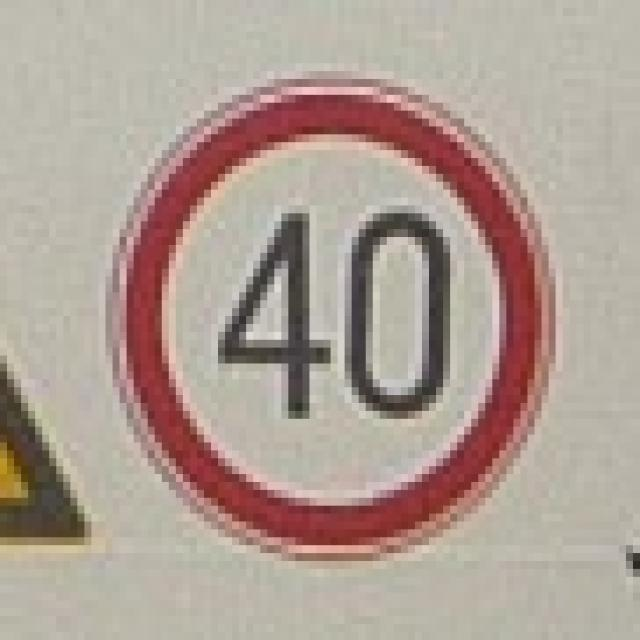Speed Limit -40-: (217, 209, 452, 421)
